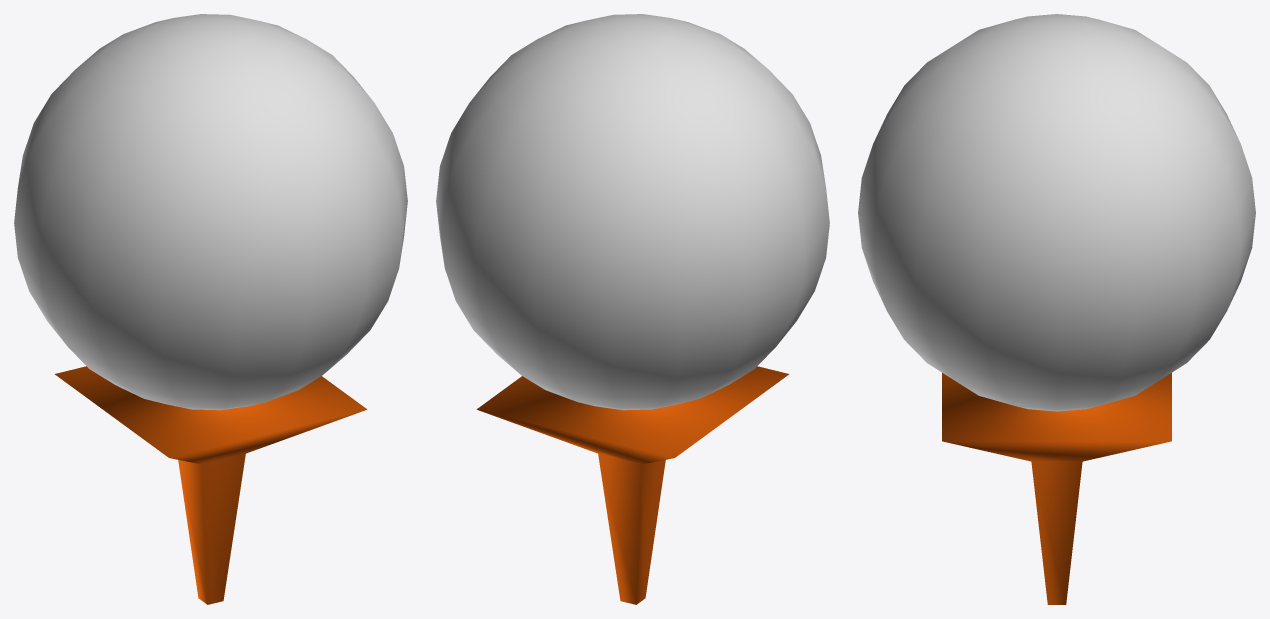
The model's file is Ball.fbx.
The picture shows the model from 3 angles, left to right: view 1: azimuth 30°, elevation 25°; view 2: azimuth 150°, elevation 25°; view 3: azimuth 270°, elevation 25°; orthographic projection.
Visible parts, largest first — view 1: Cube.002; view 2: Cube.002; view 3: Cube.002.
Boxes of the visible parts, box(x1,y1,x2,y2) form: Cube.002: box(14, 14, 407, 604); Cube.002: box(436, 14, 829, 604); Cube.002: box(858, 14, 1255, 604).
Size of the model in its own units: 5.78 by 9.12 by 5.78.
